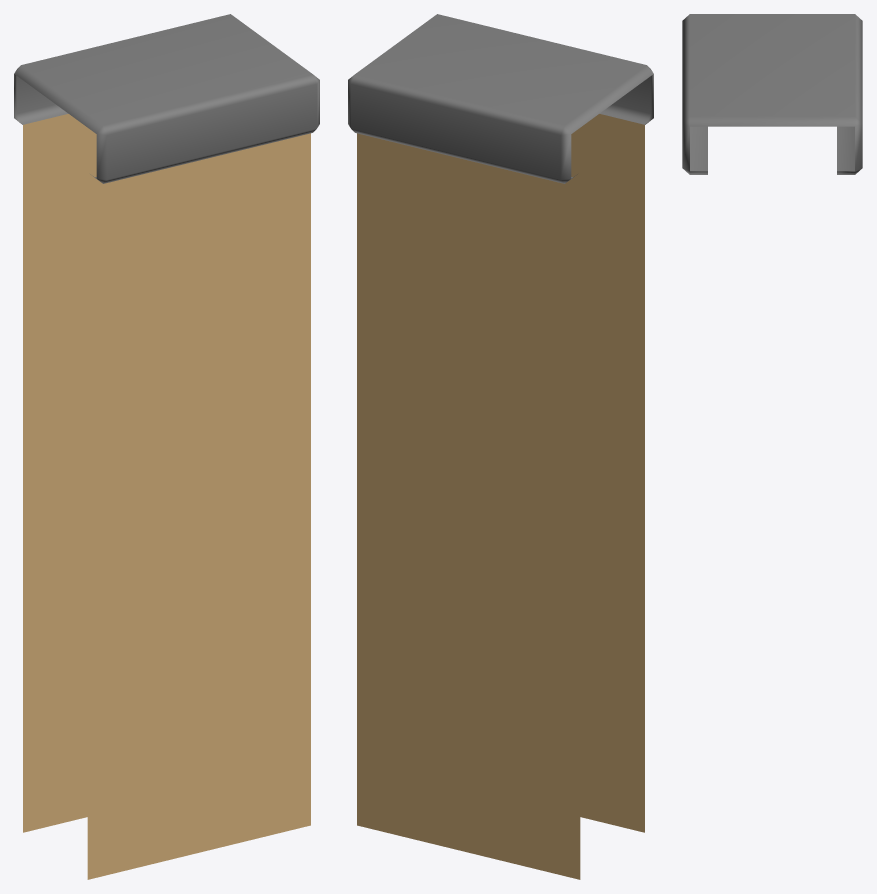
Rendered from SM_WallB_2x6_LOD1.fbx.
3 renders of one model, left to right at view 1: azimuth 30°, elevation 25°; view 2: azimuth 150°, elevation 25°; view 3: azimuth 270°, elevation 25°, orthographic.
Visible parts, largest first — view 1: SM_WallB_2x6_LOD1; view 2: SM_WallB_2x6_LOD1; view 3: SM_WallB_2x6_LOD1.
Boxes of the visible parts, x1,y1,x2,y2 form: SM_WallB_2x6_LOD1: [14, 14, 319, 879]; SM_WallB_2x6_LOD1: [348, 14, 653, 879]; SM_WallB_2x6_LOD1: [682, 14, 862, 174].
Size of the model in its own units: 2 by 6.5 by 1.4.
